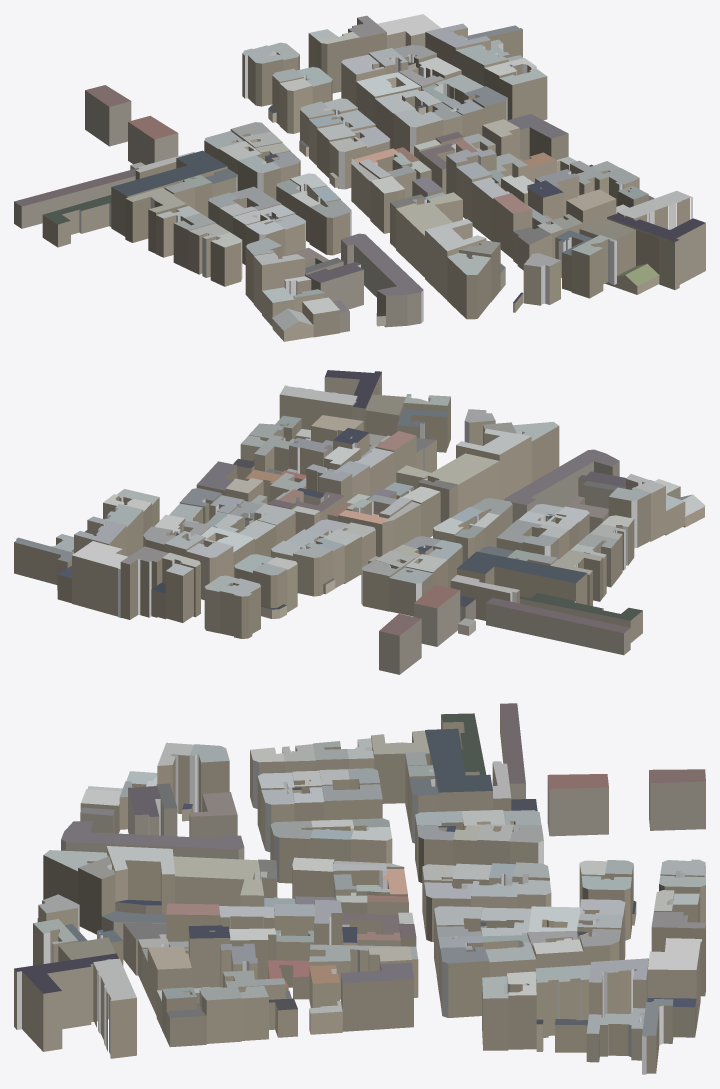
The picture shows the model from 3 angles, top to bottom: view 1: azimuth 30°, elevation 25°; view 2: azimuth 150°, elevation 25°; view 3: azimuth 270°, elevation 25°; orthographic projection. The views are drawn at different scales.
Visible parts, largest first — view 1: tuile; view 2: tuile; view 3: tuile.
Part boxes in pixels (bbox=[...]): tuile: bbox=[14, 14, 705, 341]; tuile: bbox=[14, 370, 705, 674]; tuile: bbox=[14, 703, 705, 1074].
Bounding box in the file's own units: 300 × 36.51 × 266.
